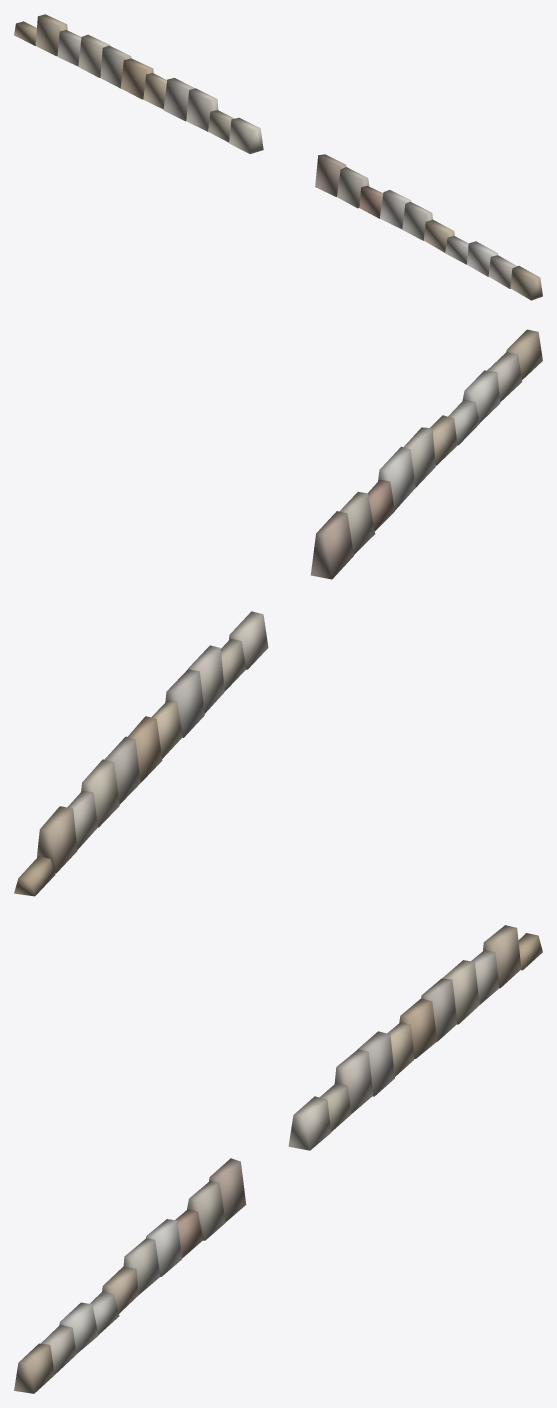
File: farm_7_17_far.glb
The picture shows the model from 3 angles, top to bottom: view 1: azimuth 30°, elevation 25°; view 2: azimuth 150°, elevation 25°; view 3: azimuth 330°, elevation 25°; orthographic projection. The views are drawn at different scales.
Visible parts, largest first — view 1: geometry_0; view 2: geometry_0; view 3: geometry_0.
Part boxes in pixels (x1,y1,x2,y2): geometry_0: (14,14,542,300); geometry_0: (14,329,542,896); geometry_0: (14,925,542,1393).
Size of the model in its own units: 4.86 by 2.7 by 38.22.
